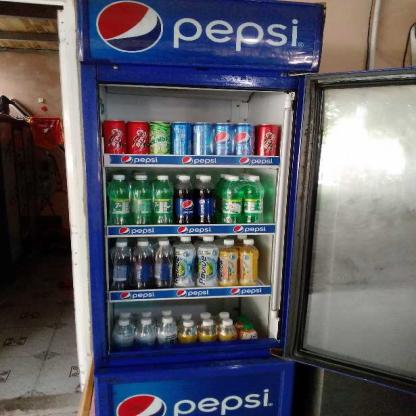7up-chai: (106, 172, 131, 224), (150, 173, 175, 225), (241, 174, 266, 223), (129, 173, 152, 225), (220, 174, 243, 224)
mirinda-sodakem: (148, 119, 171, 154)
pepsi-blue: (190, 121, 215, 155), (170, 120, 194, 155), (212, 121, 235, 157), (232, 122, 254, 157)
pepsi-blue-chai: (193, 174, 218, 224), (172, 174, 194, 227), (107, 240, 130, 290), (130, 238, 153, 288), (152, 239, 174, 290)
revive-chanhmuoi-chai: (219, 238, 240, 288), (239, 237, 260, 285)
revive-white-chai: (172, 234, 197, 290), (195, 234, 220, 287)
sting-red: (254, 122, 281, 156), (100, 119, 126, 153), (126, 120, 149, 154)
